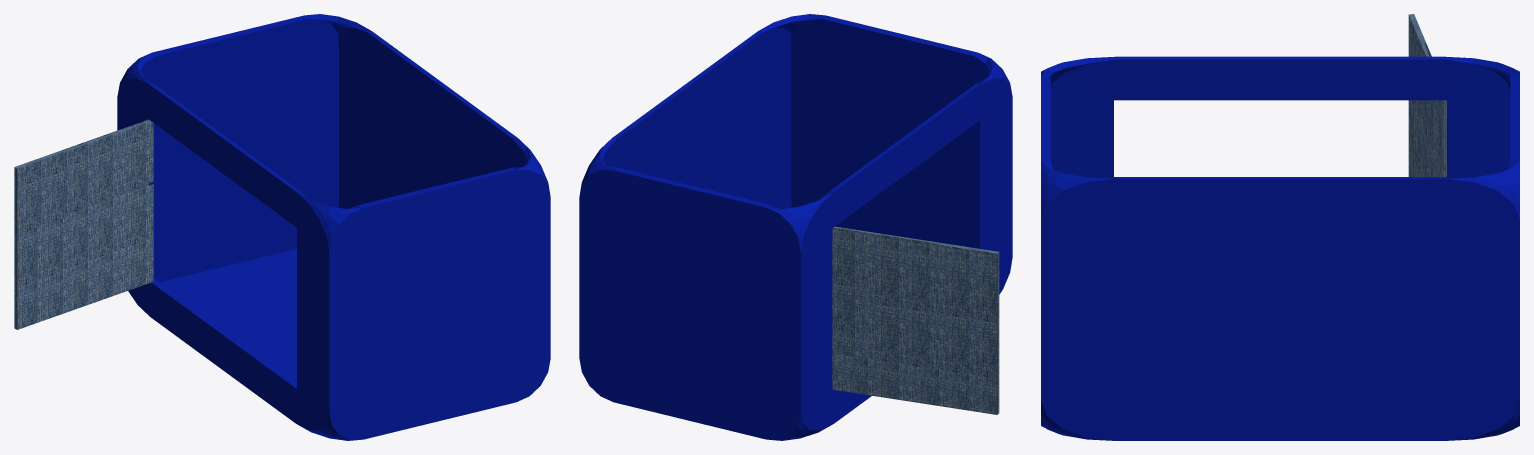
Rendered from tent.fbx.
3 renders of one model, left to right at view 1: azimuth 30°, elevation 25°; view 2: azimuth 150°, elevation 25°; view 3: azimuth 270°, elevation 25°, orthographic. The views are drawn at different scales.
Visible parts, largest first — view 1: Cube, Cube.002; view 2: Cube, Cube.002; view 3: Cube, Cube.002.
Part boxes in pixels (<box>): Cube: <box>117,14,550,440</box>; Cube.002: <box>14,119,153,329</box>; Cube: <box>579,14,1012,440</box>; Cube.002: <box>832,226,999,414</box>; Cube: <box>1041,56,1519,440</box>; Cube.002: <box>1408,14,1446,176</box>.
Bounding box in the file's own units: 335 × 200 × 331.
2 materials, 1 textured.
